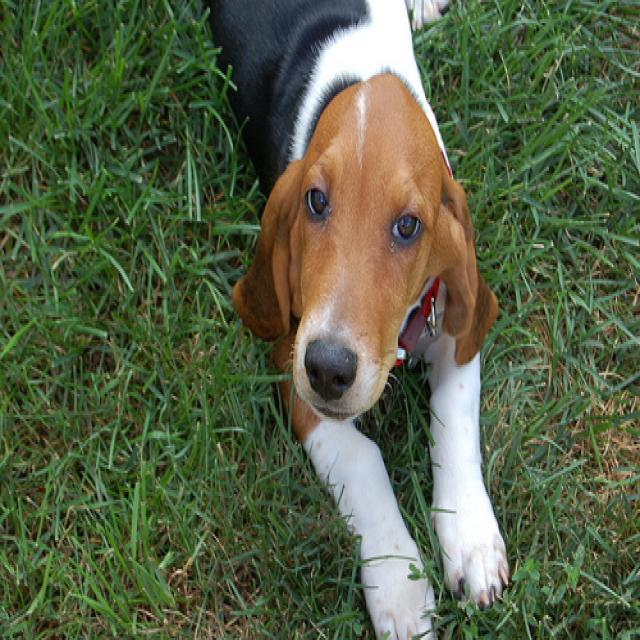dog-basset_hound: (195, 2, 525, 636)
